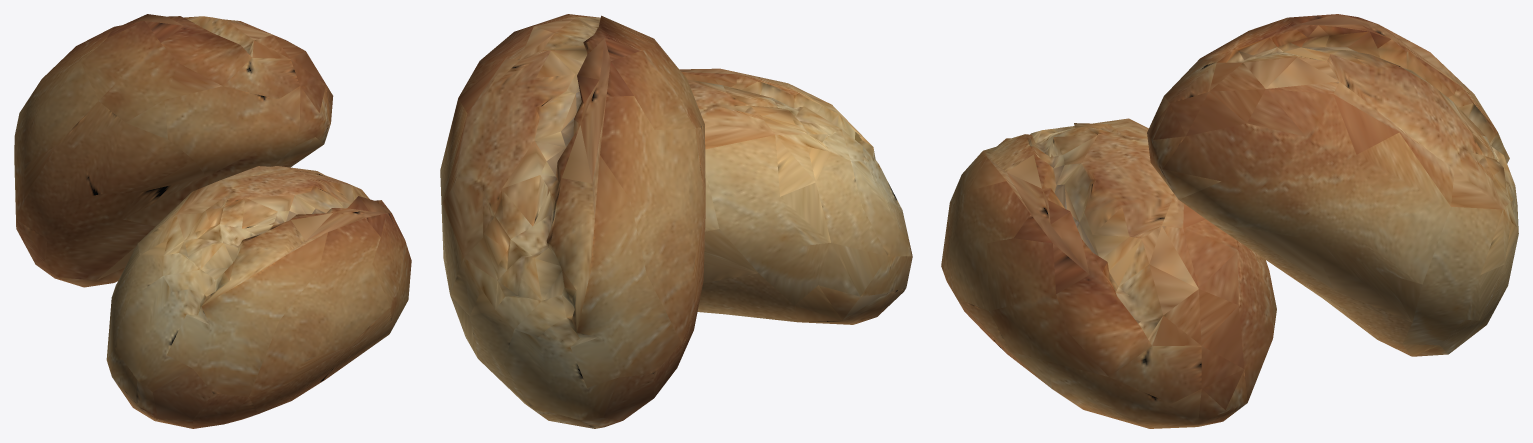
Rendered from Pao_Frances.glb.
3 views of the same model, side by side, from view 1: azimuth 30°, elevation 25°; view 2: azimuth 150°, elevation 25°; view 3: azimuth 270°, elevation 25° (orthographic). The views are drawn at different scales.
Parts seen in each view (by area): view 1: PaoFrances; view 2: PaoFrances; view 3: PaoFrances.
Part boxes in pixels (left/top/right/bottom): PaoFrances: left=14, top=14, right=411, bottom=428; PaoFrances: left=440, top=14, right=912, bottom=428; PaoFrances: left=941, top=14, right=1518, bottom=428.
Bounding box in the file's own units: 0.9537 × 0.8528 × 1.28.
Materials: 1 (1 with a texture image).
